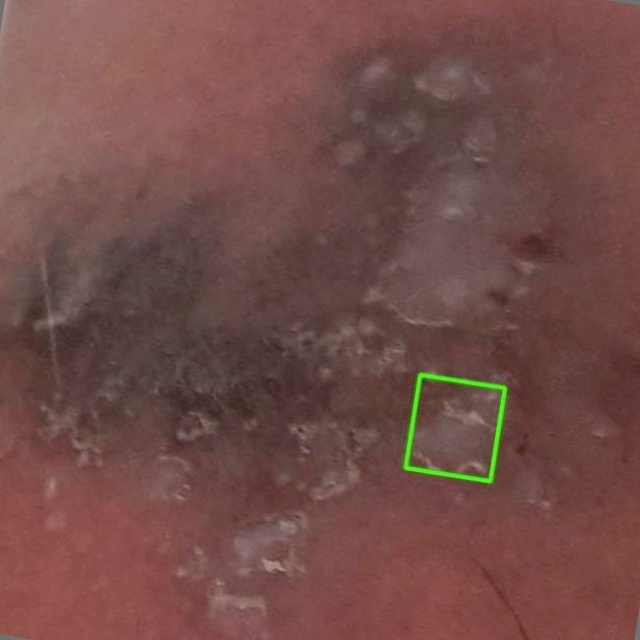Contact Dermatitis: (405, 374, 504, 481)
